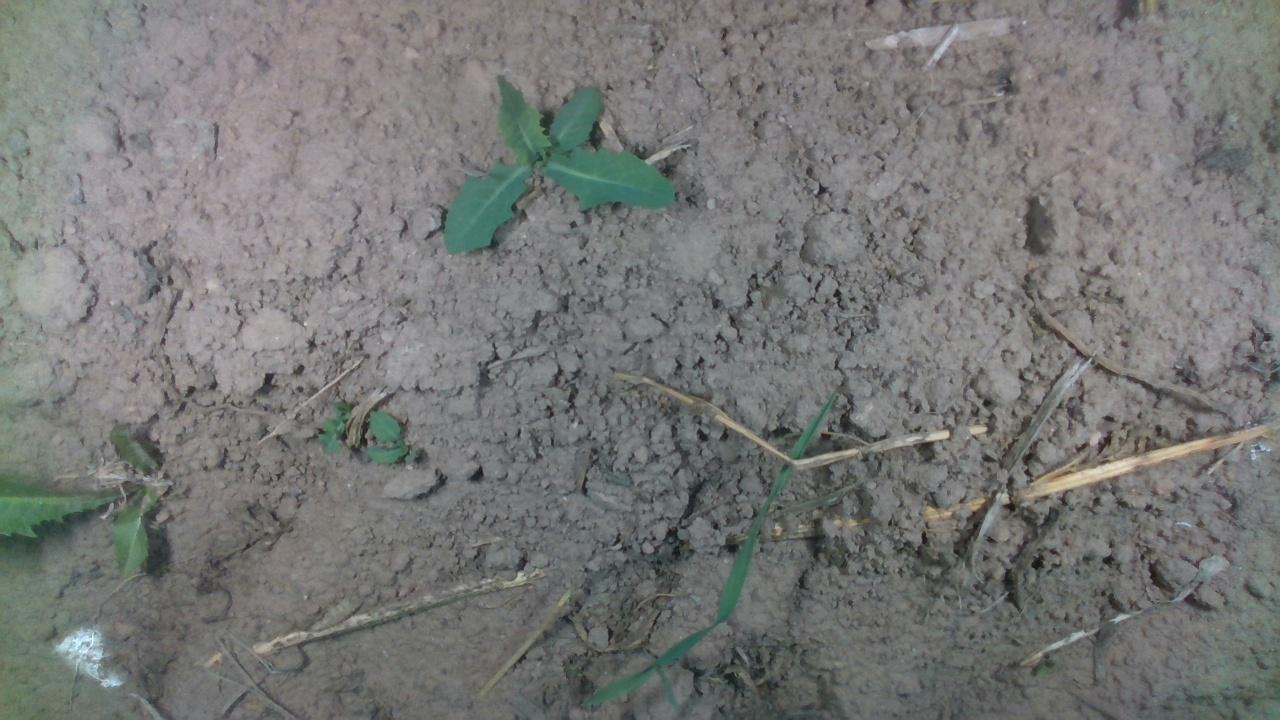weed: (441, 75, 679, 254)
